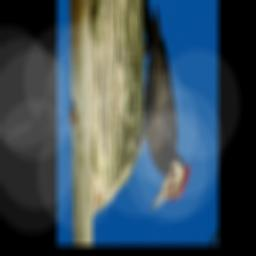Woodpecker: (133, 0, 193, 210)
